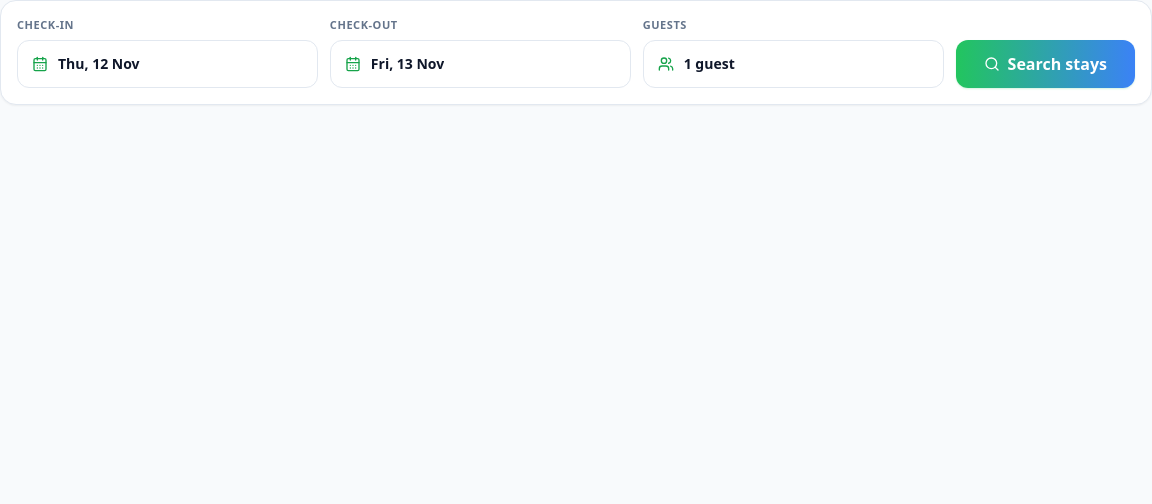
Test case: StaySearch pickers › past days are disabled and clicking before check-in restarts the range
What coordinates should you click on to do the following:
click the button with aria-label "Choose check-in date"
I would click on:
 (99, 63)
Its box is [17,40,318,88].
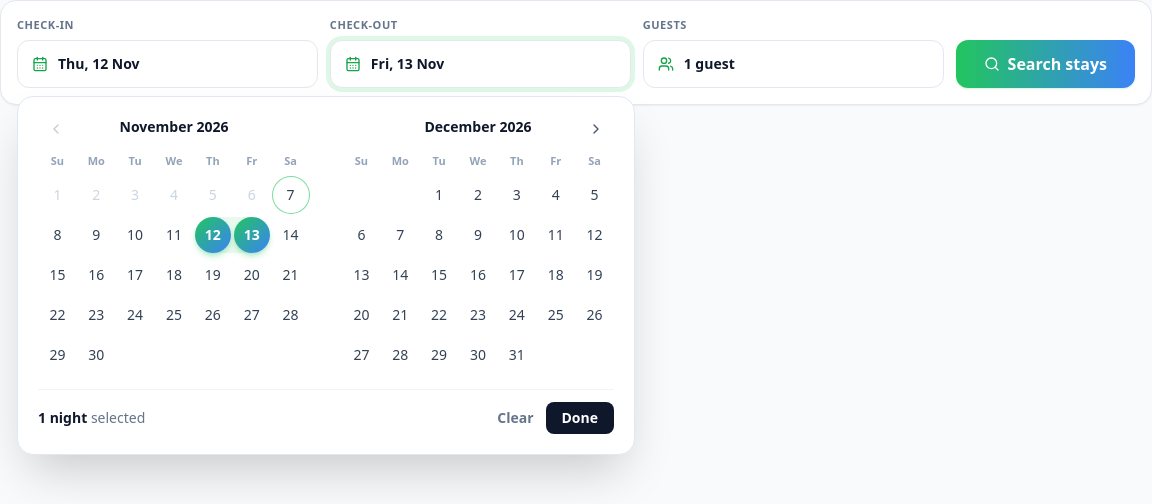
What coordinates should you click on to do the following:
click the button "12" below "November 2026"
I would click on:
 (213, 235)
Its box is [195,217,231,253].
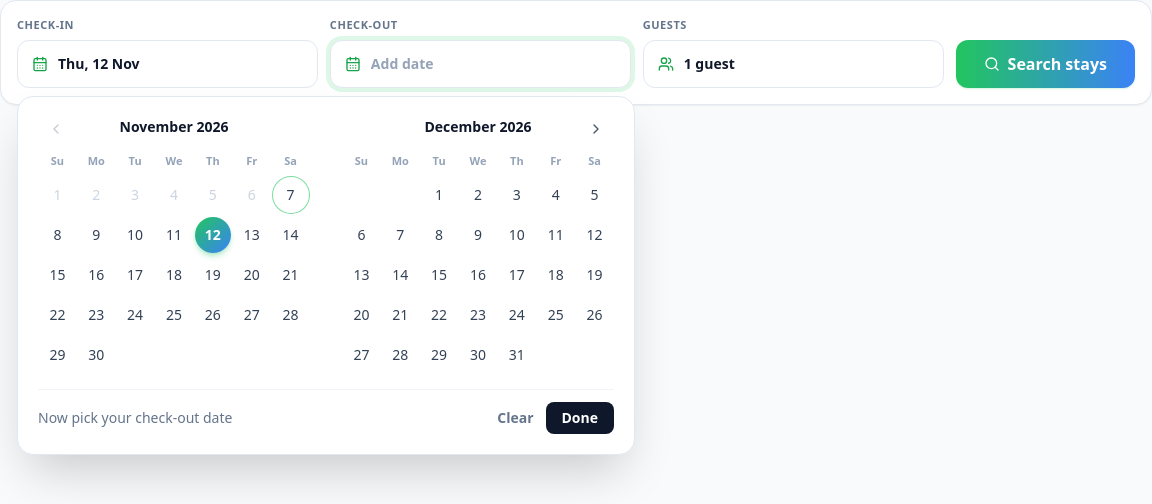
Expected: the text "Now pick your check-out date" is shown, [38,408,232,428]
